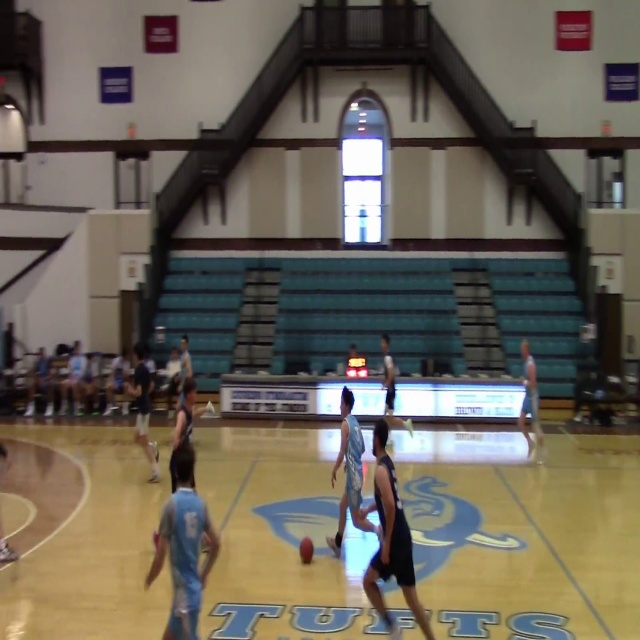Basketball: (299, 537, 313, 563)
